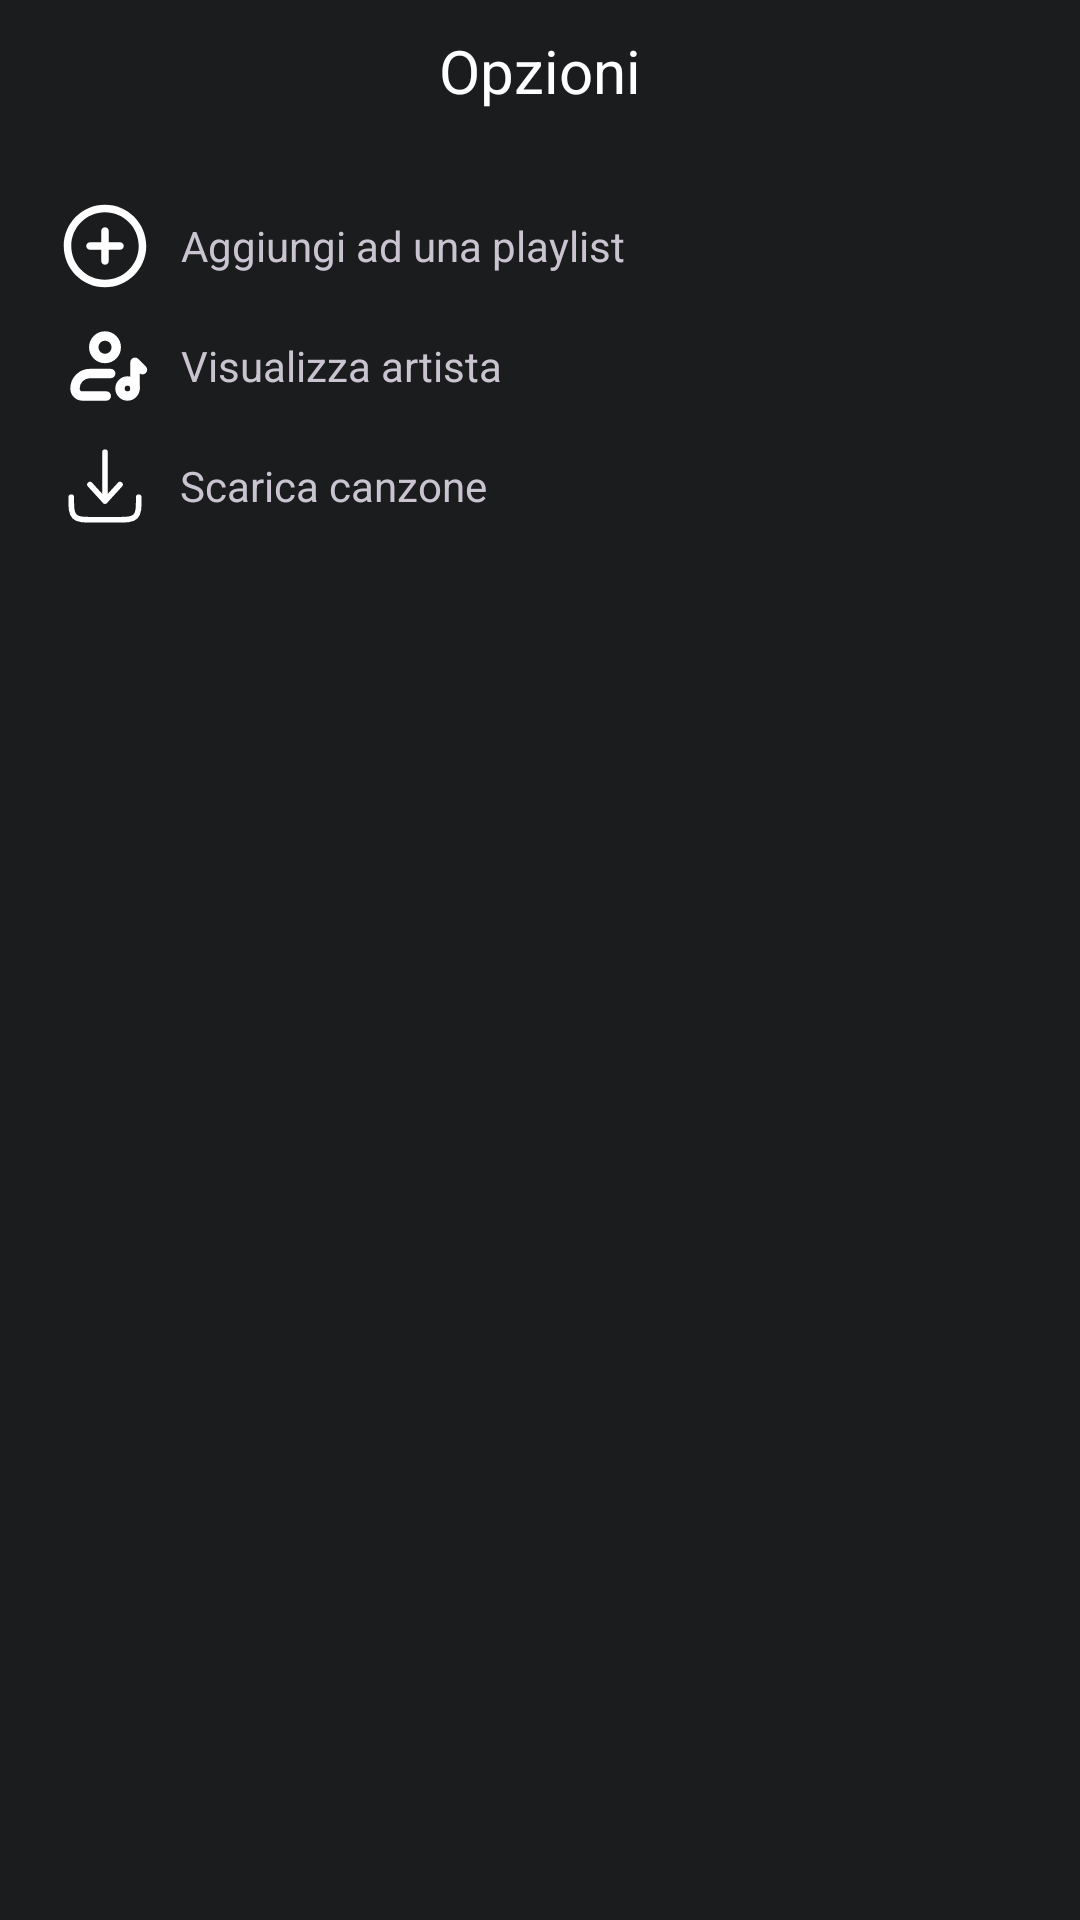

Icon bounding boxes for this 1080×1920 phone screenshot, format (x1, y1, x2, y2):
download: (68, 449, 142, 523)
